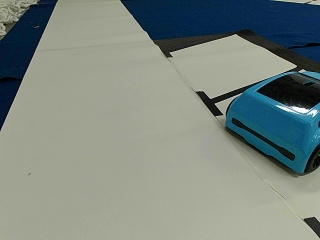car: (223, 68, 319, 178)
